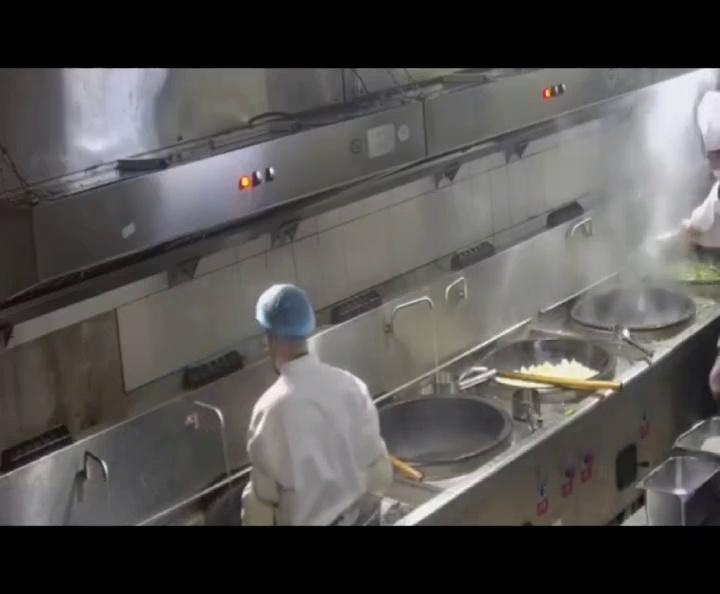gloves: (247, 279, 325, 356)
